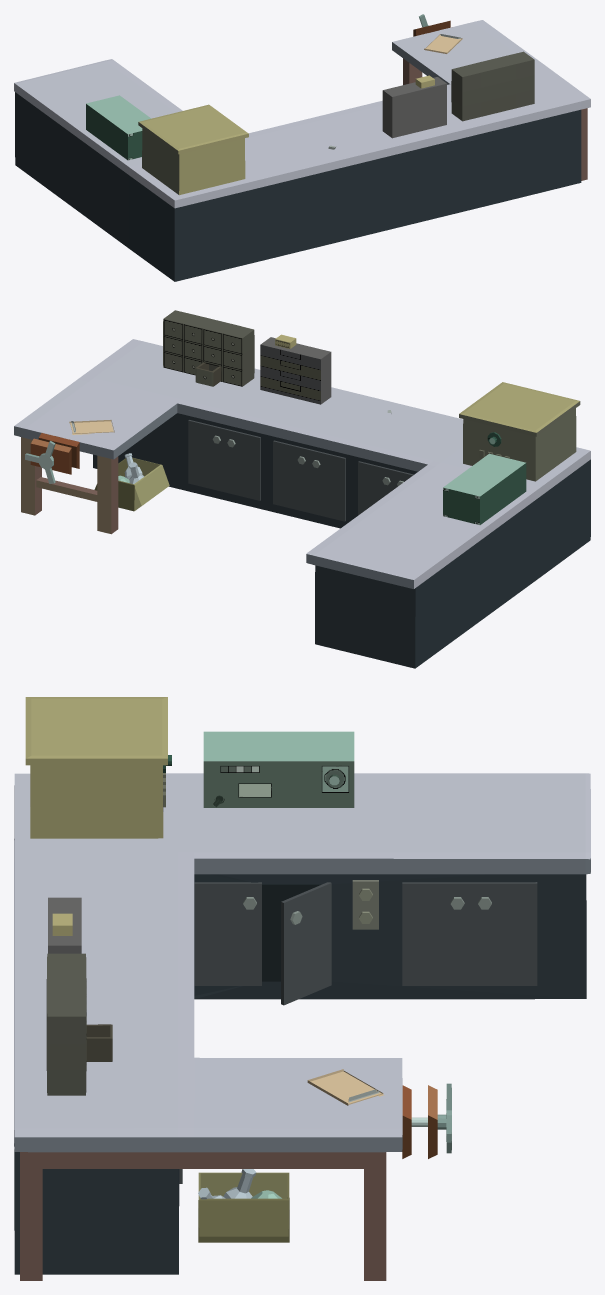
File: desktop.obj
The picture shows the model from 3 angles, top to bottom: view 1: azimuth 30°, elevation 25°; view 2: azimuth 150°, elevation 25°; view 3: azimuth 270°, elevation 25°; orthographic projection. The views are drawn at different scales.
Parts seen in each view (by area): view 1: Interior; view 2: Interior; view 3: Interior.
Part boxes in pixels (left/top/right/bottom): Interior: left=14, top=14, right=590, bottom=281; Interior: left=14, top=310, right=590, bottom=668; Interior: left=14, top=697, right=590, bottom=1280.
Bounding box in the file's own units: 5.4 × 1.6 × 3.61.
Materials: 1 (1 with a texture image).
